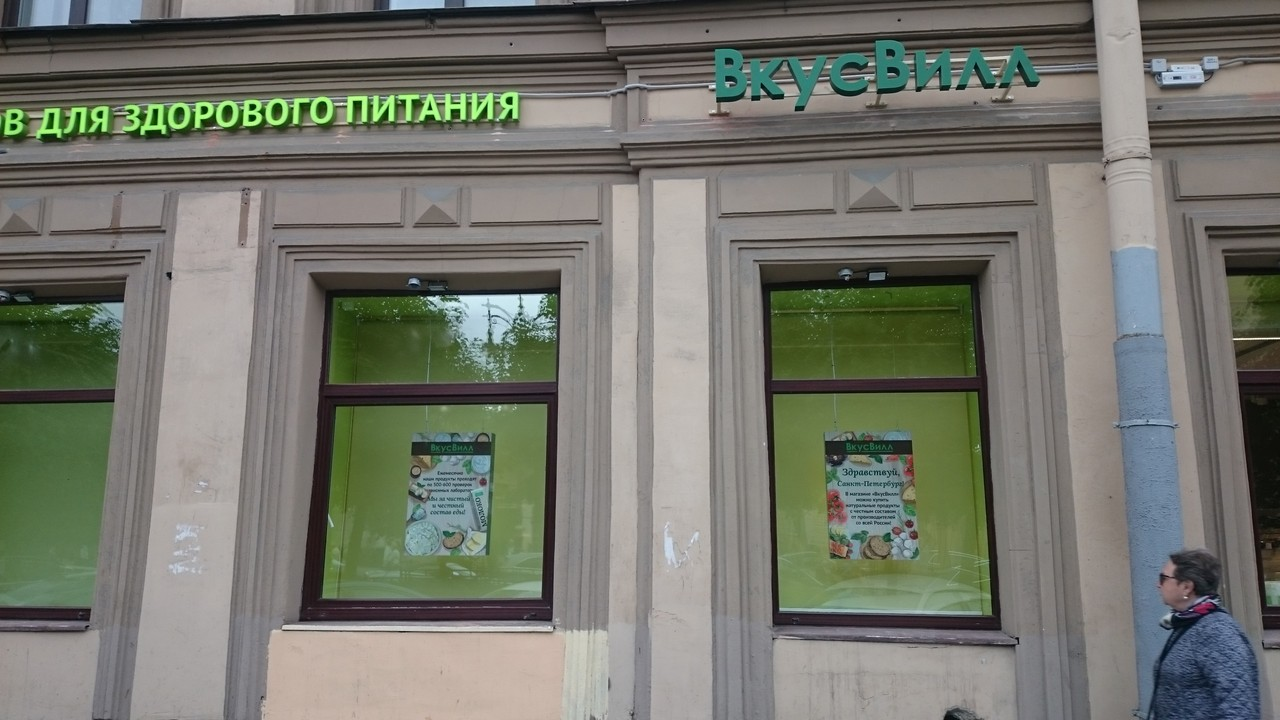signboard: (1, 88, 526, 147), (711, 41, 1043, 112)
window: (757, 264, 1004, 631), (314, 273, 552, 626), (1, 283, 123, 622)
